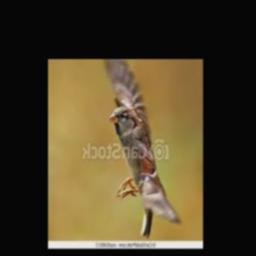Sparrow: (104, 59, 182, 238)
